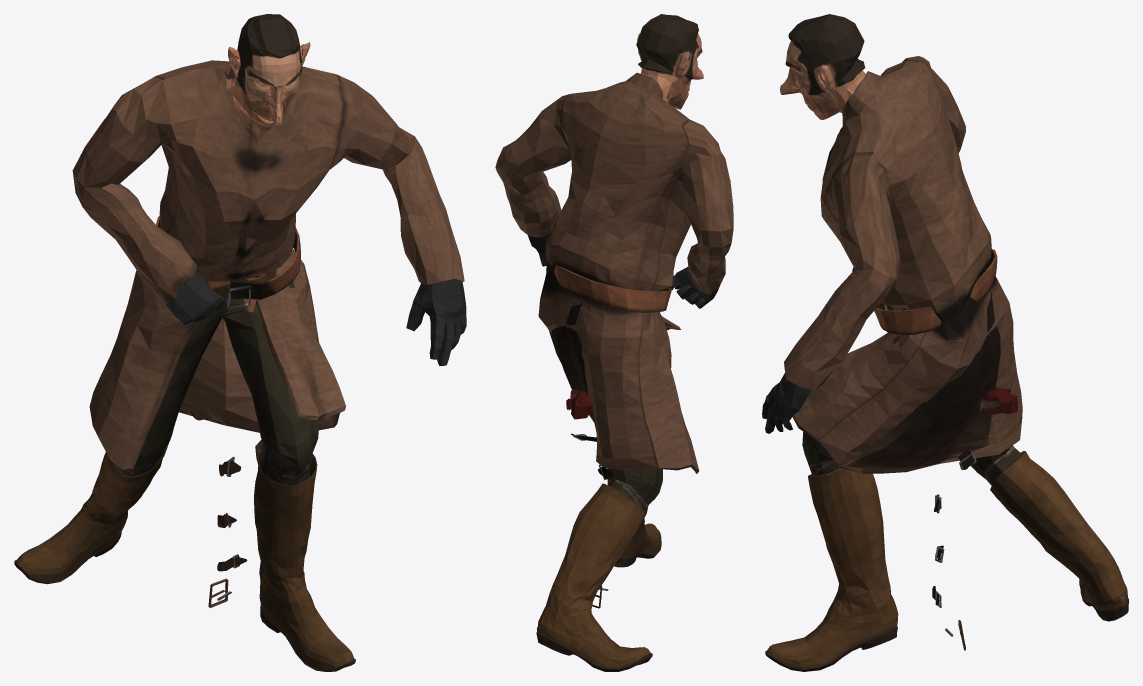
File: sniper01_000005.obj
The picture shows the model from 3 angles, left to right: view 1: azimuth 30°, elevation 25°; view 2: azimuth 150°, elevation 25°; view 3: azimuth 270°, elevation 25°; orthographic projection. The views are drawn at different scales.
Visible parts, largest first — view 1: Tops, Shoes, Bottoms, BodyParts; view 2: Tops, Shoes, BodyParts, Bottoms; view 3: Tops, Shoes, BodyParts, Bottoms.
Boxes of the visible parts, x1=… form: Tops: x1=72, y1=60, x2=464, y2=600; Shoes: x1=14, y1=439, x2=355, y2=671; Bottoms: x1=116, y1=269, x2=318, y2=607; BodyParts: x1=164, y1=14, x2=466, y2=365; Tops: x1=495, y1=73, x2=733, y2=590; Shoes: x1=536, y1=468, x2=661, y2=671; BodyParts: x1=528, y1=14, x2=719, y2=419; Bottoms: x1=592, y1=468, x2=662, y2=608; Tops: x1=784, y1=56, x2=1022, y2=636; Shoes: x1=765, y1=451, x2=1128, y2=671; BodyParts: x1=762, y1=14, x2=1018, y2=433; Bottoms: x1=802, y1=305, x2=1021, y2=650.
Bounding box in the file's own units: 1.21 × 2.37 × 1.26.
